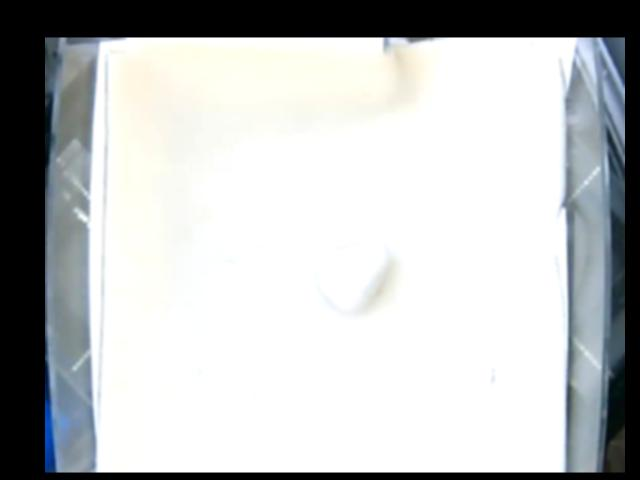Pebble: (315, 243, 390, 313)
